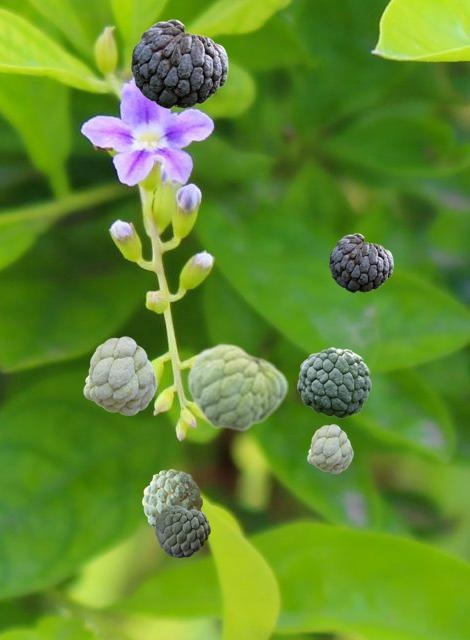atis: (186, 342, 287, 431), (131, 19, 227, 107), (83, 336, 156, 414), (297, 347, 370, 417), (329, 233, 392, 291), (142, 469, 201, 528), (155, 505, 209, 556), (307, 424, 352, 472)
